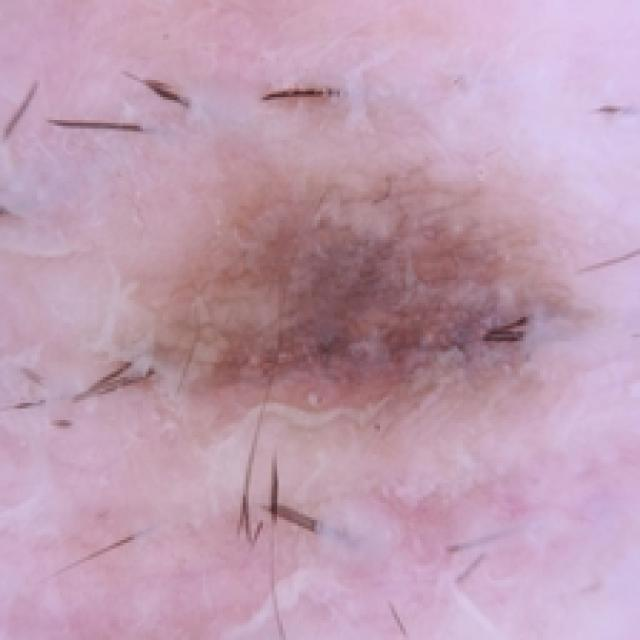non-cancer: (146, 115, 576, 456)
